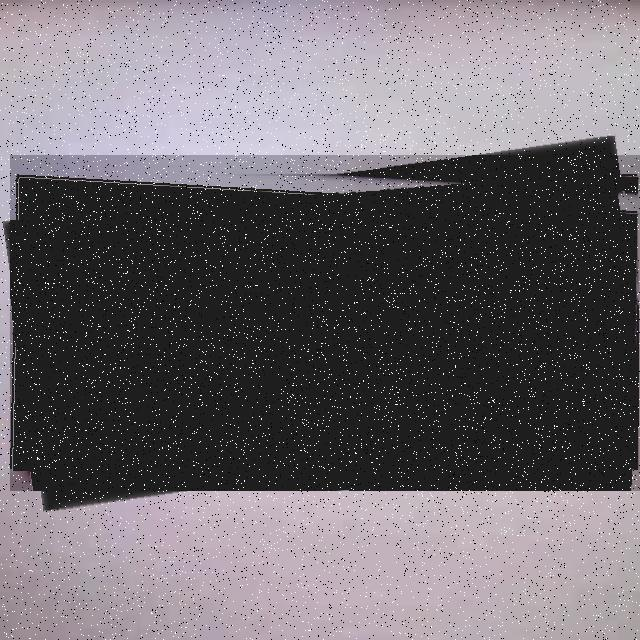lima puluh ribu rupiah: (10, 155, 640, 491)
